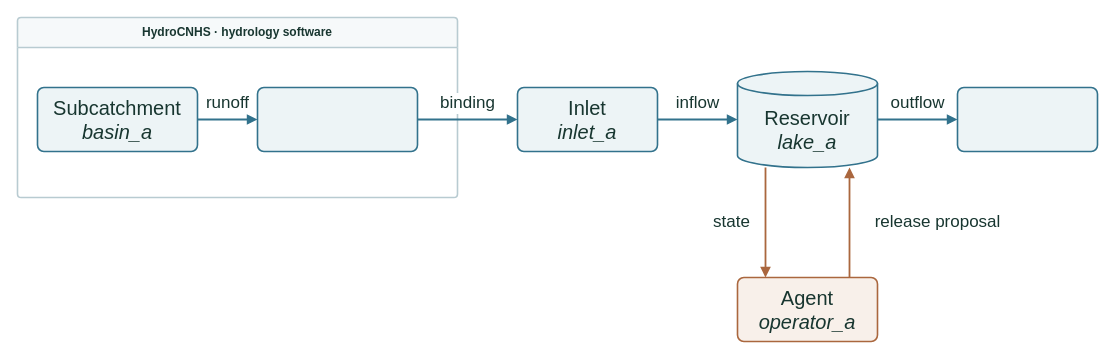
The diagram is 1116 pixels wide and 360 high, and some of its shapes have lost their labels. Here are the shapes that lost their labels. From the top down, the centre of each, then its label:
the point at 337,119: Routed outlet outlet_a
the point at 1027,119: Downstream river_a
